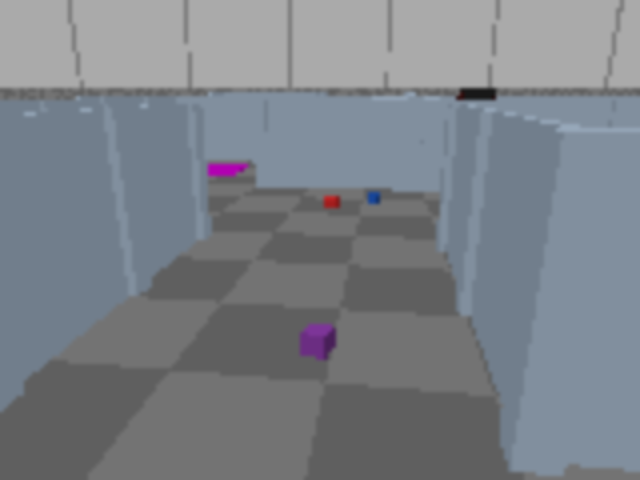goal_zone: (178, 165, 250, 176)
puck: (302, 322, 335, 360)
